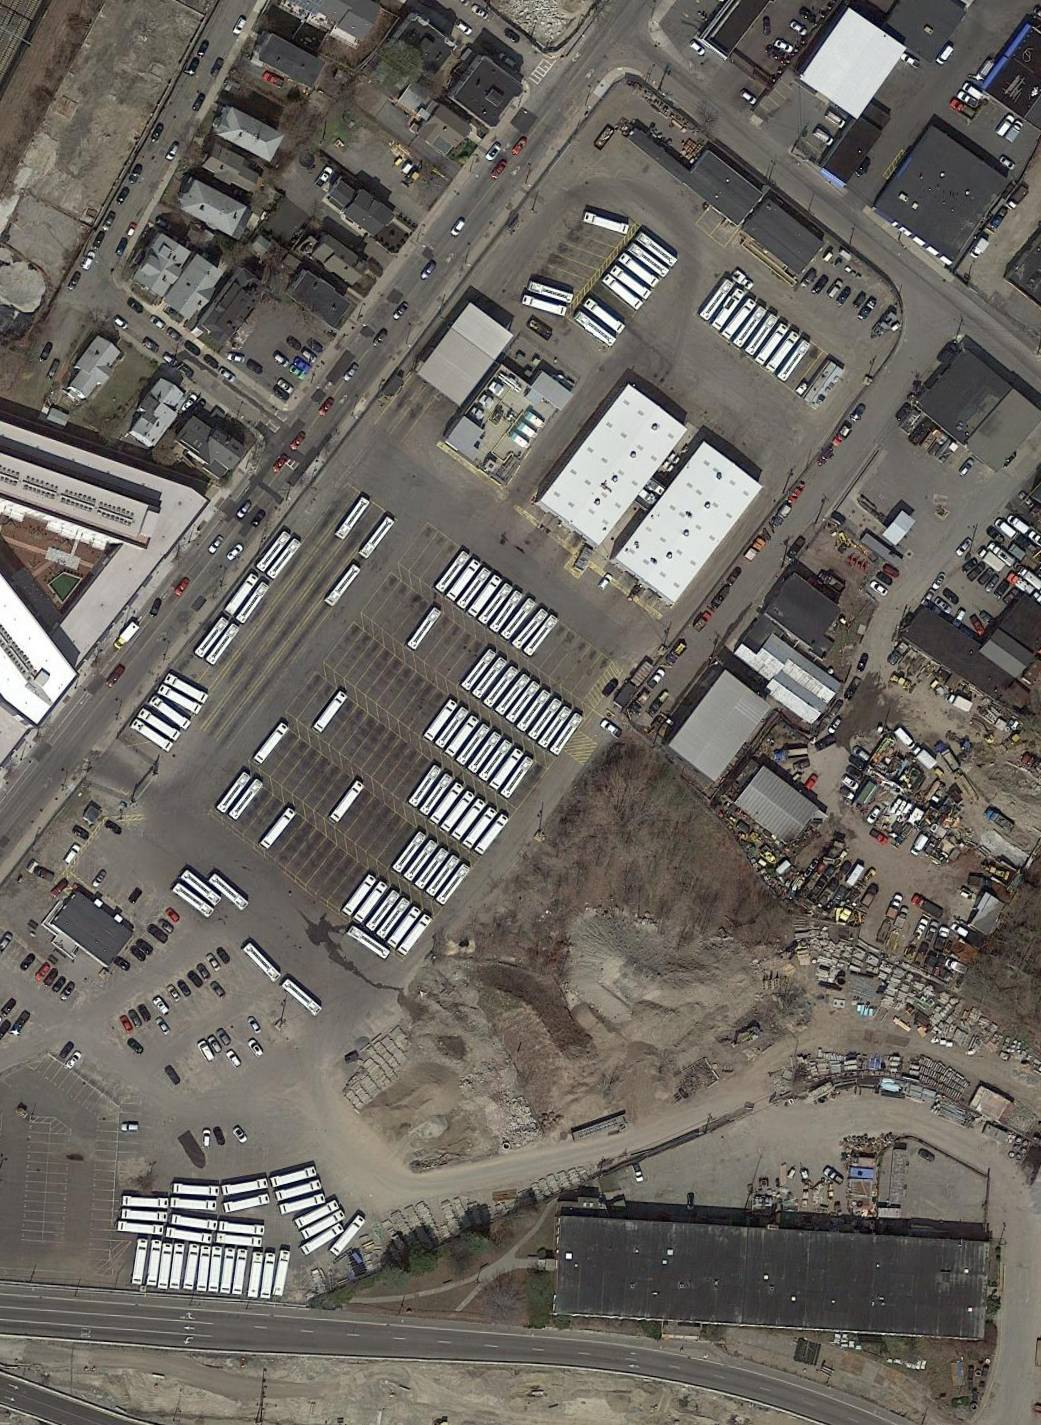large vehicle: (405, 605, 446, 652), (444, 557, 485, 603), (281, 976, 324, 1019), (327, 1213, 368, 1257), (498, 596, 538, 642), (476, 582, 516, 627), (574, 309, 620, 349), (522, 613, 561, 659), (525, 696, 564, 742), (434, 704, 472, 750), (345, 923, 392, 961), (209, 871, 251, 913), (180, 867, 223, 908), (171, 881, 216, 920), (258, 807, 298, 851), (583, 297, 627, 336), (435, 861, 473, 906), (444, 712, 482, 758), (482, 665, 521, 710), (421, 698, 460, 743), (775, 339, 814, 384), (324, 563, 363, 609), (434, 549, 472, 594), (488, 587, 525, 634), (358, 514, 396, 561), (510, 607, 550, 651), (636, 230, 679, 270), (391, 830, 429, 874), (402, 839, 440, 883), (466, 574, 504, 618), (227, 777, 266, 821), (341, 873, 379, 917), (215, 770, 253, 814), (148, 694, 192, 732), (455, 566, 493, 611), (488, 747, 525, 792), (450, 797, 488, 842), (424, 853, 461, 898), (471, 655, 509, 700), (516, 688, 553, 734), (743, 313, 781, 358), (235, 580, 271, 626), (330, 778, 366, 824), (334, 495, 371, 541), (243, 942, 283, 984), (628, 241, 672, 280), (467, 730, 504, 774), (439, 790, 477, 834), (414, 846, 451, 891), (455, 722, 492, 767), (460, 648, 498, 693), (495, 673, 532, 717), (548, 712, 585, 757), (720, 298, 758, 342), (353, 878, 391, 923), (131, 717, 175, 755), (266, 537, 303, 581), (194, 615, 231, 659), (610, 264, 654, 302), (499, 755, 535, 800), (538, 705, 574, 750), (710, 287, 747, 332), (163, 672, 210, 706), (461, 807, 499, 850), (504, 680, 542, 724), (252, 722, 290, 766), (397, 913, 434, 957), (256, 530, 292, 574), (223, 572, 260, 616), (205, 623, 241, 667), (312, 689, 348, 734), (138, 707, 183, 743), (157, 683, 204, 717), (301, 1207, 347, 1241), (300, 1223, 346, 1257), (620, 251, 660, 290), (603, 273, 644, 312), (731, 306, 769, 349), (473, 813, 510, 856), (375, 897, 412, 940), (478, 739, 514, 782), (766, 331, 802, 374), (699, 279, 736, 322), (407, 764, 443, 809), (429, 781, 465, 825), (754, 323, 790, 366), (365, 890, 400, 933), (419, 772, 454, 816), (387, 905, 421, 949), (294, 1199, 341, 1230), (528, 279, 574, 306), (274, 1178, 323, 1203), (584, 211, 631, 237), (270, 1164, 317, 1188), (522, 294, 568, 318), (223, 1192, 271, 1214), (279, 1193, 326, 1215), (183, 1242, 202, 1292), (221, 1177, 270, 1197), (171, 1213, 219, 1232), (131, 1238, 149, 1286), (273, 1250, 292, 1298), (247, 1251, 266, 1299), (231, 1248, 250, 1296), (116, 1219, 166, 1237), (145, 1239, 163, 1288), (165, 1226, 214, 1244), (156, 1242, 174, 1290), (219, 1219, 267, 1237), (196, 1245, 214, 1292), (219, 1248, 237, 1294), (170, 1242, 187, 1291), (207, 1246, 223, 1293), (173, 1182, 221, 1197), (121, 1207, 169, 1223), (216, 1232, 264, 1248), (122, 1195, 169, 1210), (170, 1196, 218, 1211), (261, 1254, 275, 1300)
small vehicle: (910, 892, 947, 920), (111, 618, 142, 652), (986, 540, 1017, 569), (1006, 570, 1037, 599), (948, 96, 980, 124), (910, 742, 939, 772), (976, 547, 1007, 574), (102, 662, 129, 690), (829, 422, 855, 449), (892, 725, 918, 752), (1004, 184, 1030, 211), (665, 639, 690, 667), (709, 582, 733, 611), (647, 689, 673, 716), (743, 535, 768, 563), (933, 40, 957, 67), (9, 1009, 33, 1037), (1014, 564, 1041, 589), (771, 501, 794, 529), (995, 112, 1018, 139), (946, 691, 975, 714), (967, 235, 991, 260), (784, 535, 808, 562), (995, 516, 1019, 540), (146, 922, 170, 946), (908, 833, 931, 859), (856, 297, 879, 322), (691, 610, 715, 635), (600, 717, 625, 740), (989, 204, 1011, 230), (774, 746, 809, 762), (823, 108, 849, 131), (1006, 513, 1031, 535), (312, 165, 334, 190), (417, 258, 439, 283), (197, 1040, 218, 1067), (885, 893, 905, 920), (813, 125, 836, 148), (822, 1165, 845, 1188), (646, 667, 668, 691), (61, 842, 83, 866), (956, 89, 981, 110), (1004, 119, 1026, 145), (933, 926, 952, 953), (798, 267, 820, 290), (171, 575, 194, 599), (391, 300, 413, 323), (262, 69, 287, 90), (787, 481, 808, 506), (341, 360, 362, 384), (967, 561, 989, 583), (952, 537, 975, 559), (316, 395, 339, 417), (235, 498, 256, 521), (223, 542, 247, 563), (489, 158, 510, 181), (246, 1037, 266, 1061), (849, 402, 870, 424), (864, 804, 885, 826), (962, 81, 985, 102), (834, 285, 855, 308), (49, 877, 71, 898), (270, 453, 292, 474), (288, 430, 309, 453), (202, 951, 223, 974), (815, 734, 839, 753), (811, 273, 831, 297), (485, 141, 504, 164), (152, 995, 171, 1018), (163, 1063, 183, 1086), (968, 613, 987, 637), (977, 566, 998, 587), (901, 50, 922, 71), (18, 951, 39, 972), (839, 772, 861, 792), (950, 920, 972, 940), (59, 981, 79, 1003), (179, 392, 199, 414), (250, 507, 270, 529), (225, 1048, 244, 1070), (38, 340, 56, 363), (80, 249, 98, 272), (127, 163, 146, 186), (773, 37, 797, 55), (983, 572, 1002, 595), (34, 865, 58, 884), (852, 743, 872, 764), (845, 763, 866, 783), (868, 579, 889, 599), (933, 596, 954, 616), (42, 967, 62, 988), (33, 961, 53, 982), (275, 376, 296, 396), (207, 534, 227, 555), (448, 217, 468, 238), (101, 210, 119, 232), (231, 14, 250, 37), (164, 141, 183, 163), (930, 570, 949, 592), (511, 135, 530, 157), (231, 1124, 250, 1146), (993, 578, 1011, 601), (293, 356, 313, 376), (851, 290, 871, 310), (739, 89, 759, 108), (58, 1040, 77, 1060), (688, 38, 708, 58), (726, 565, 745, 586), (826, 278, 845, 299), (919, 587, 938, 609), (913, 917, 931, 938), (91, 868, 110, 890), (126, 885, 145, 906), (64, 1050, 83, 1071), (470, 2, 491, 21), (502, 27, 523, 45), (372, 327, 391, 349), (597, 571, 616, 592), (154, 1016, 173, 1037), (206, 1034, 225, 1055), (66, 270, 84, 292), (45, 358, 63, 381), (209, 56, 227, 79), (826, 715, 844, 737), (894, 907, 910, 930), (244, 358, 264, 377), (273, 350, 292, 370), (847, 753, 867, 772), (135, 937, 155, 956), (50, 974, 69, 994), (454, 18, 473, 37), (126, 1037, 146, 1055), (186, 970, 205, 990), (958, 457, 976, 478), (215, 945, 232, 966), (246, 1015, 263, 1036), (166, 984, 184, 1005), (209, 980, 227, 1001), (923, 920, 939, 943), (951, 607, 968, 630), (126, 297, 145, 315), (142, 336, 160, 355), (163, 351, 181, 370), (875, 569, 894, 587), (157, 918, 176, 937), (164, 906, 183, 925), (129, 945, 148, 964), (104, 819, 123, 838), (183, 340, 202, 357), (115, 186, 133, 206), (288, 364, 308, 382), (195, 963, 212, 982), (92, 230, 108, 251), (114, 236, 131, 257), (150, 122, 166, 144), (128, 1008, 144, 1030), (998, 154, 1017, 171), (112, 313, 131, 331), (165, 327, 184, 345), (202, 353, 221, 371), (218, 366, 237, 384), (960, 557, 979, 574), (943, 587, 961, 605), (113, 955, 132, 972), (72, 823, 91, 841), (118, 1015, 135, 1034), (216, 1027, 232, 1047), (177, 979, 194, 999), (137, 1003, 153, 1024), (214, 1126, 228, 1148), (149, 314, 167, 332), (790, 20, 809, 37), (196, 39, 211, 59), (192, 92, 208, 112), (301, 347, 319, 364), (287, 334, 303, 352), (119, 1121, 140, 1134), (149, 597, 163, 618), (188, 56, 201, 76), (201, 1128, 214, 1150), (883, 564, 901, 579), (228, 352, 247, 364), (126, 222, 139, 238), (763, 17, 772, 35)
